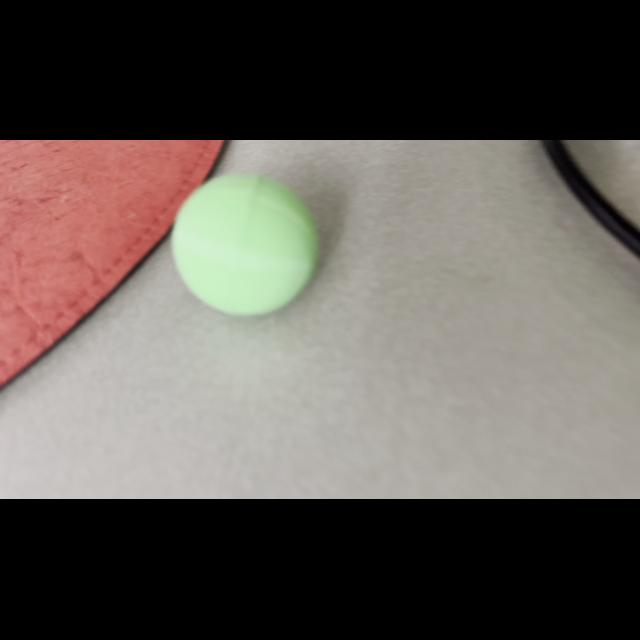objects: (162, 165, 332, 325)
